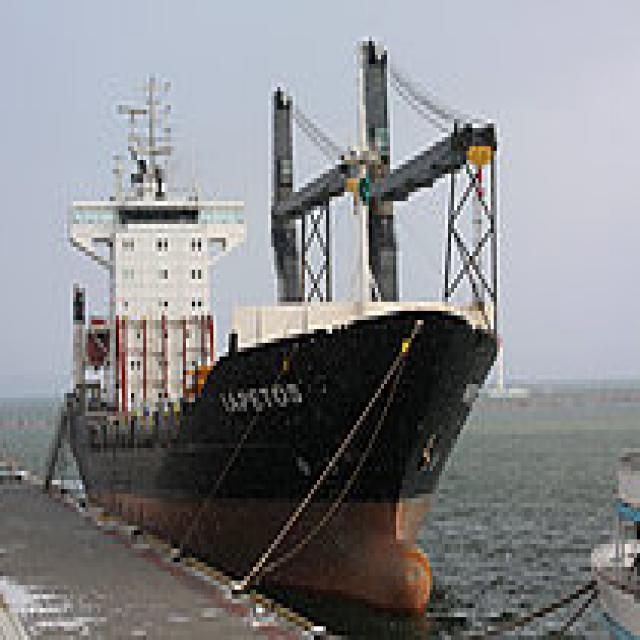Ship: (56, 24, 516, 640)
